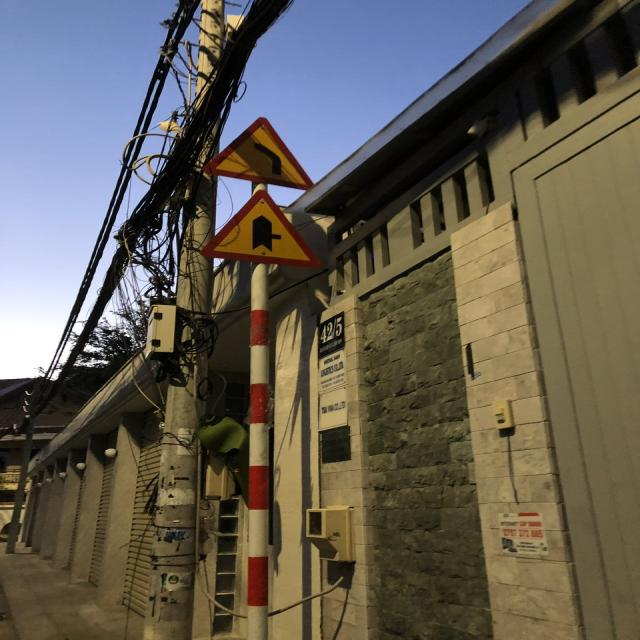Bien bao cho ngoat nguy hiem: (197, 112, 336, 188)
Bien bao giao nhau voi duong khong uu tien: (197, 188, 325, 268)
